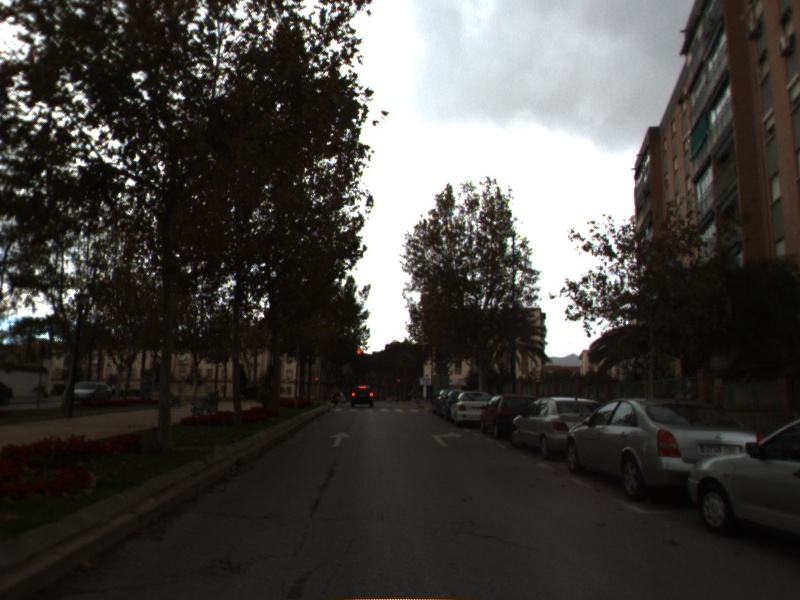RIGHT: (428, 430, 464, 448)
STRAIGHT: (327, 430, 354, 449)
